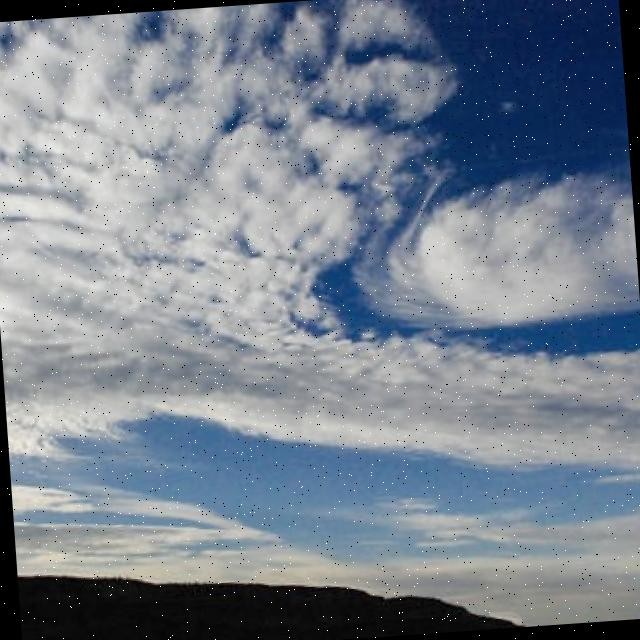St: (346, 140, 640, 376)
